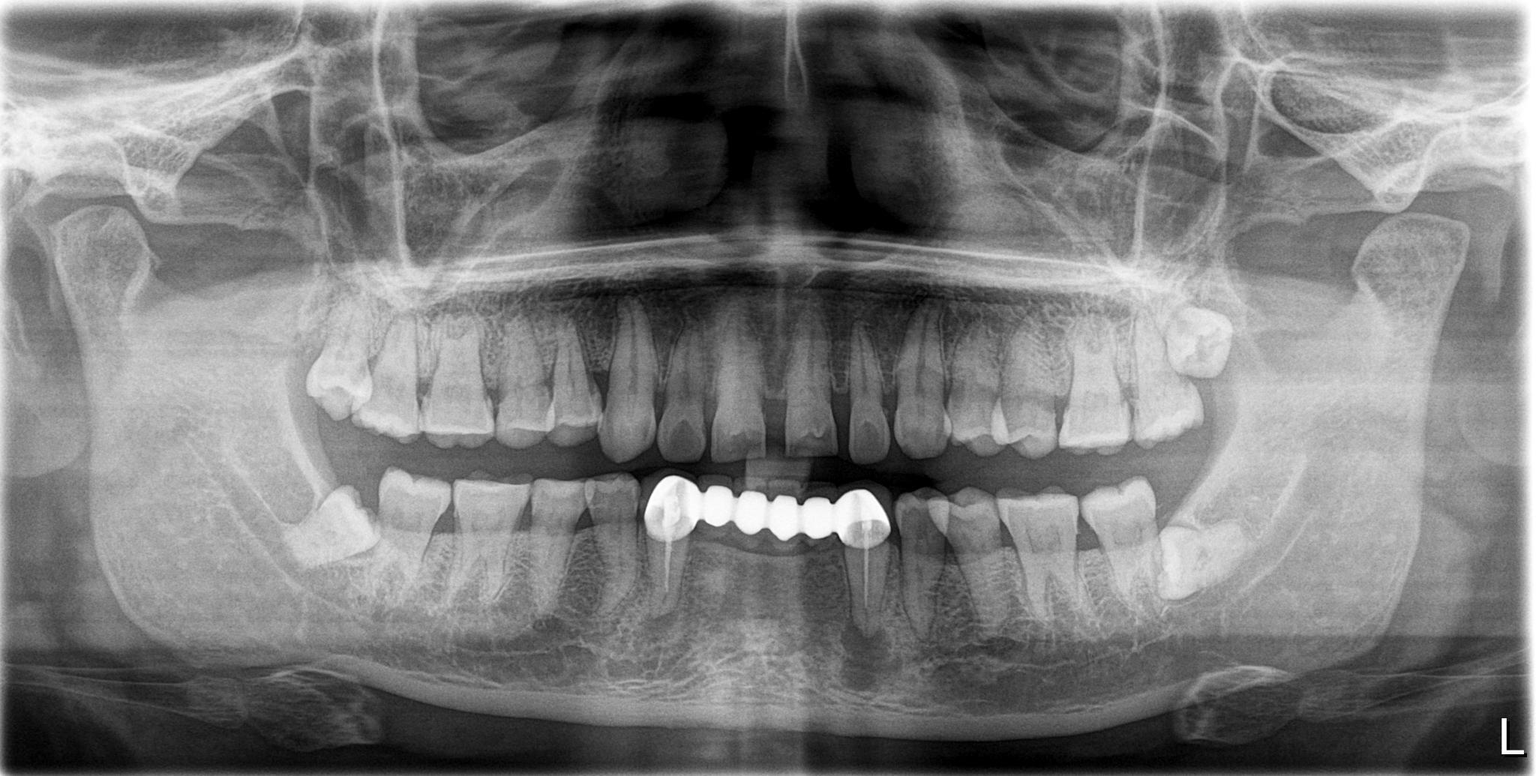Dental Caries: (660, 420, 713, 459)
Endodontically Treated Tooth: (638, 478, 899, 636)
Impacted Third Molar: (270, 495, 382, 572), (1151, 311, 1249, 378), (1168, 523, 1256, 591)
